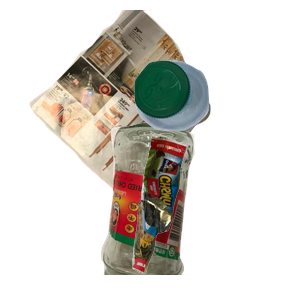glass: (98, 120, 286, 300)
paper: (27, 10, 230, 190)
plastic: (132, 58, 300, 182)
trash: (130, 131, 300, 300)
